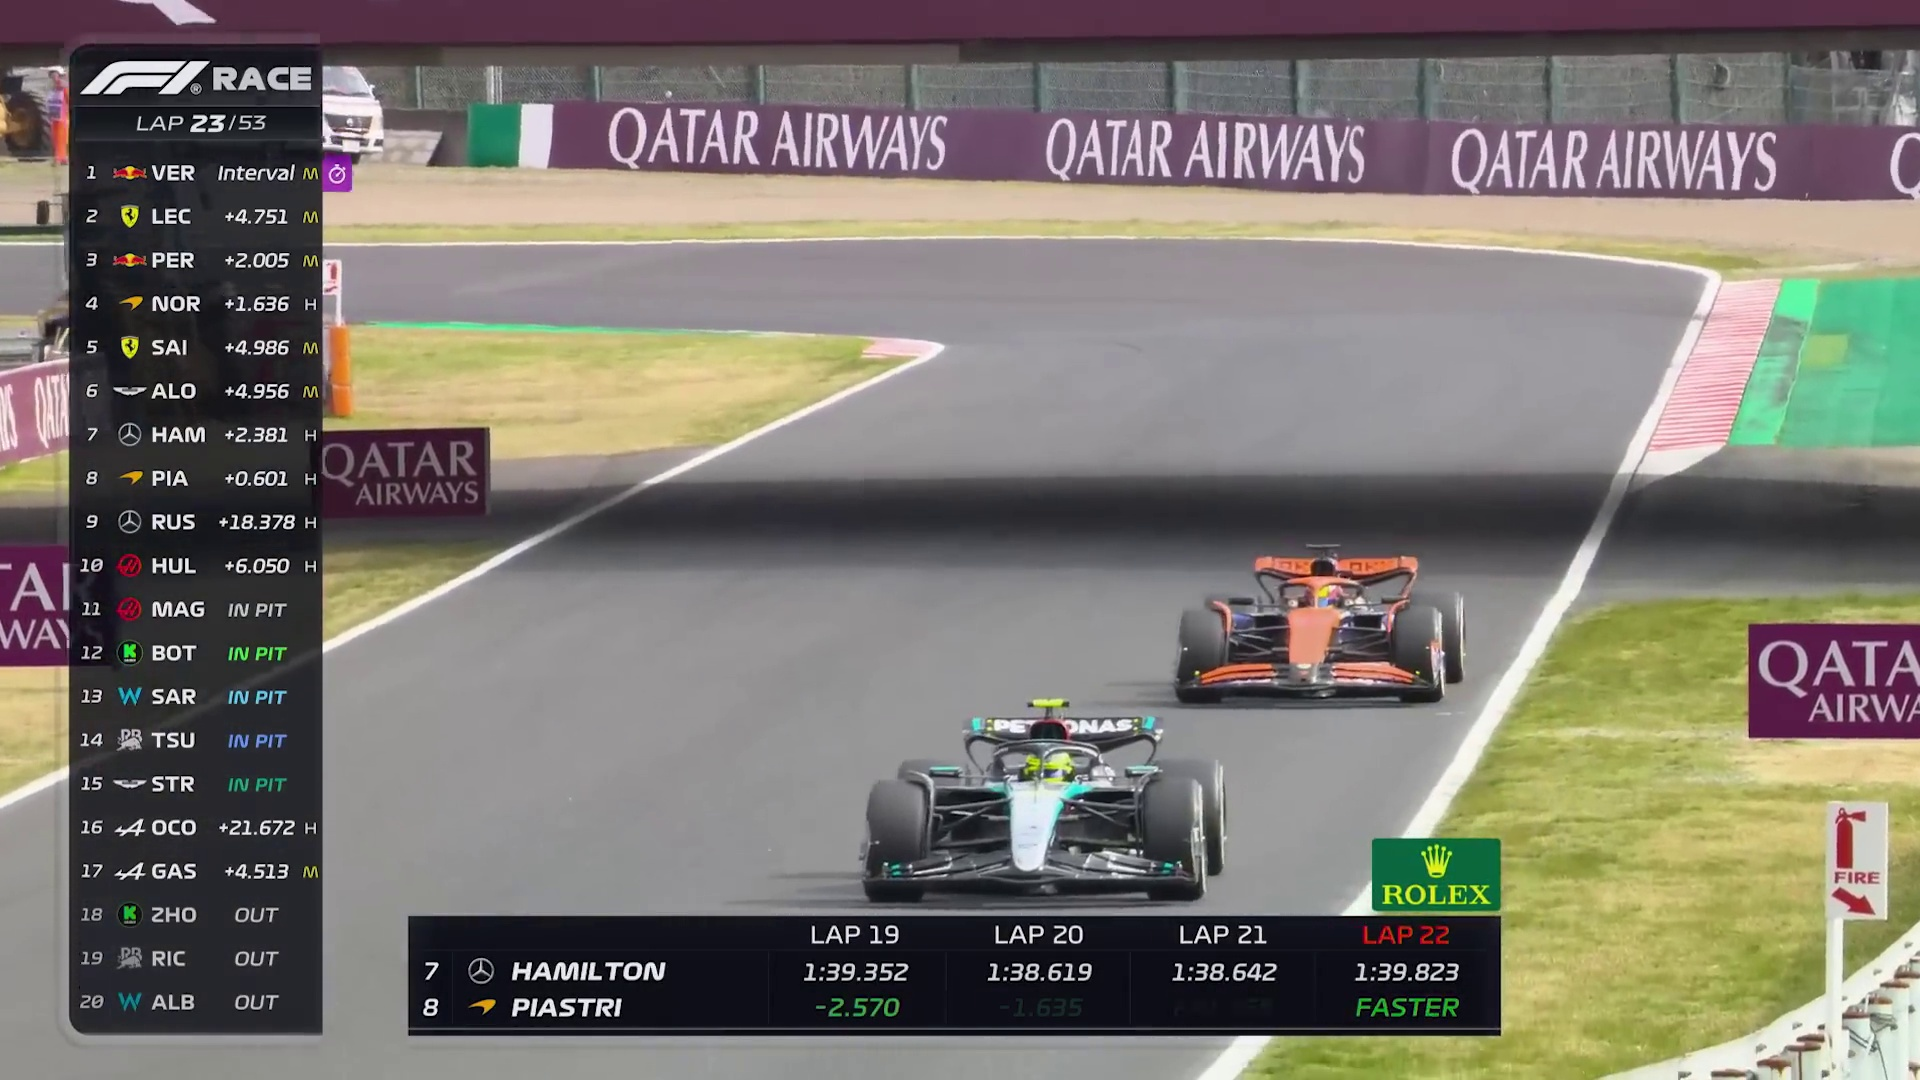Mclaren: (1180, 558, 1468, 699)
Mercedes: (868, 709, 1228, 901)
